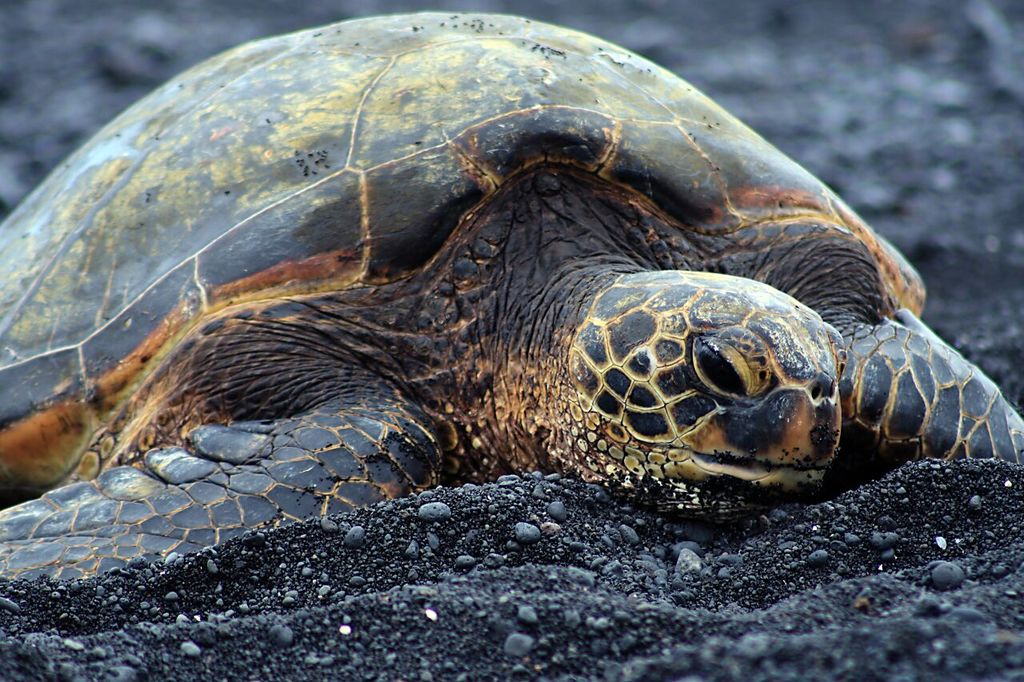Sea turtles: (0, 7, 1023, 582)
